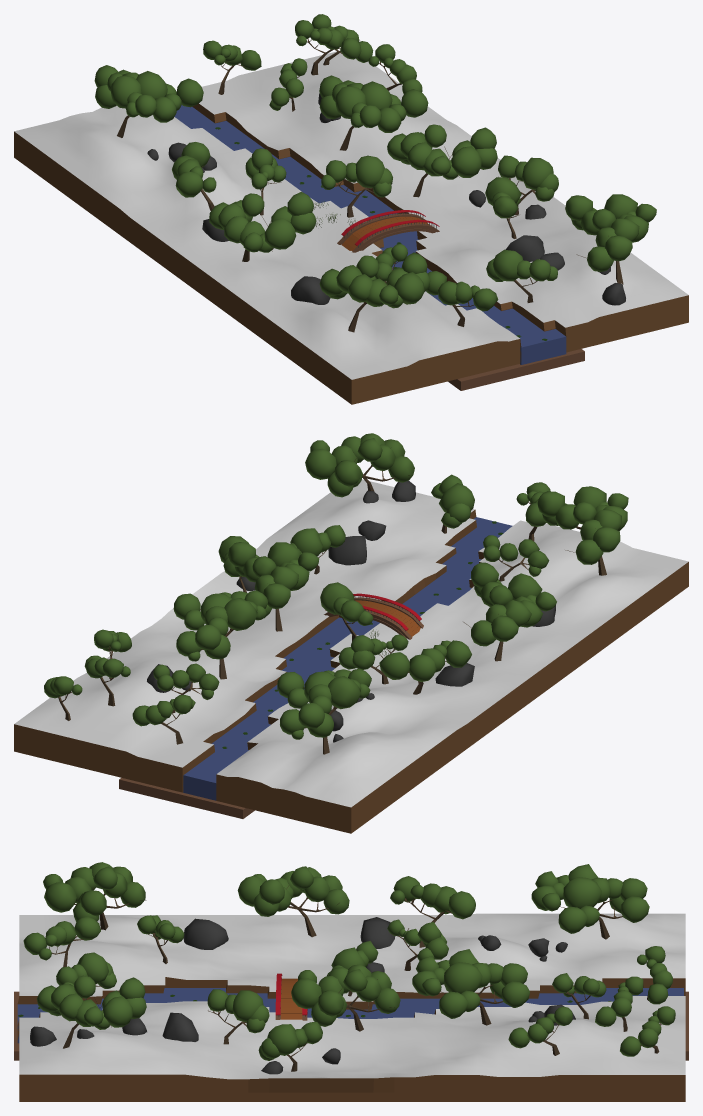
Rendered from sakura.gltf.
3 renders of one model, top to bottom at view 1: azimuth 30°, elevation 25°; view 2: azimuth 150°, elevation 25°; view 3: azimuth 270°, elevation 25°, orthographic.
Visible parts, largest first — view 1: Grass, Foliage, Earth, River, Rocks, TreeTrunks, Cube, Cube.002, Cube.003, Cube.004; view 2: Grass, Foliage, Earth, River, Rocks, TreeTrunks, Cube, Cube.002; view 3: Grass, Foliage, Earth, Rocks, River, TreeTrunks, Cube.003, Cube.
Boxes of the visible parts, <box> form: Grass: <box>14,51,688,379</box>; Foliage: <box>94,14,656,311</box>; Earth: <box>14,103,688,404</box>; River: <box>174,105,566,364</box>; Rocks: <box>147,93,625,305</box>; TreeTrunks: <box>117,38,623,332</box>; Cube: <box>448,349,584,390</box>; Cube.002: <box>337,213,439,252</box>; Cube.003: <box>342,216,429,250</box>; Cube.004: <box>341,210,439,245</box>; Grass: <box>14,479,688,807</box>; Foliage: <box>44,433,628,739</box>; Earth: <box>14,509,688,833</box>; River: <box>183,517,512,800</box>; Rocks: <box>147,480,555,742</box>; TreeTrunks: <box>58,452,606,754</box>; Cube: <box>119,778,254,818</box>; Cube.002: <box>324,597,423,639</box>; Grass: <box>19,913,685,1079</box>; Foliage: <box>23,862,675,1060</box>; Earth: <box>17,977,685,1101</box>; Rocks: <box>30,917,575,1074</box>; River: <box>17,988,683,1043</box>; TreeTrunks: <box>49,885,661,1071</box>; Cube.003: <box>281,978,302,1019</box>; Cube: <box>14,991,688,1060</box>.
Bounding box in the file's own units: 75.76 × 24.22 × 132.
